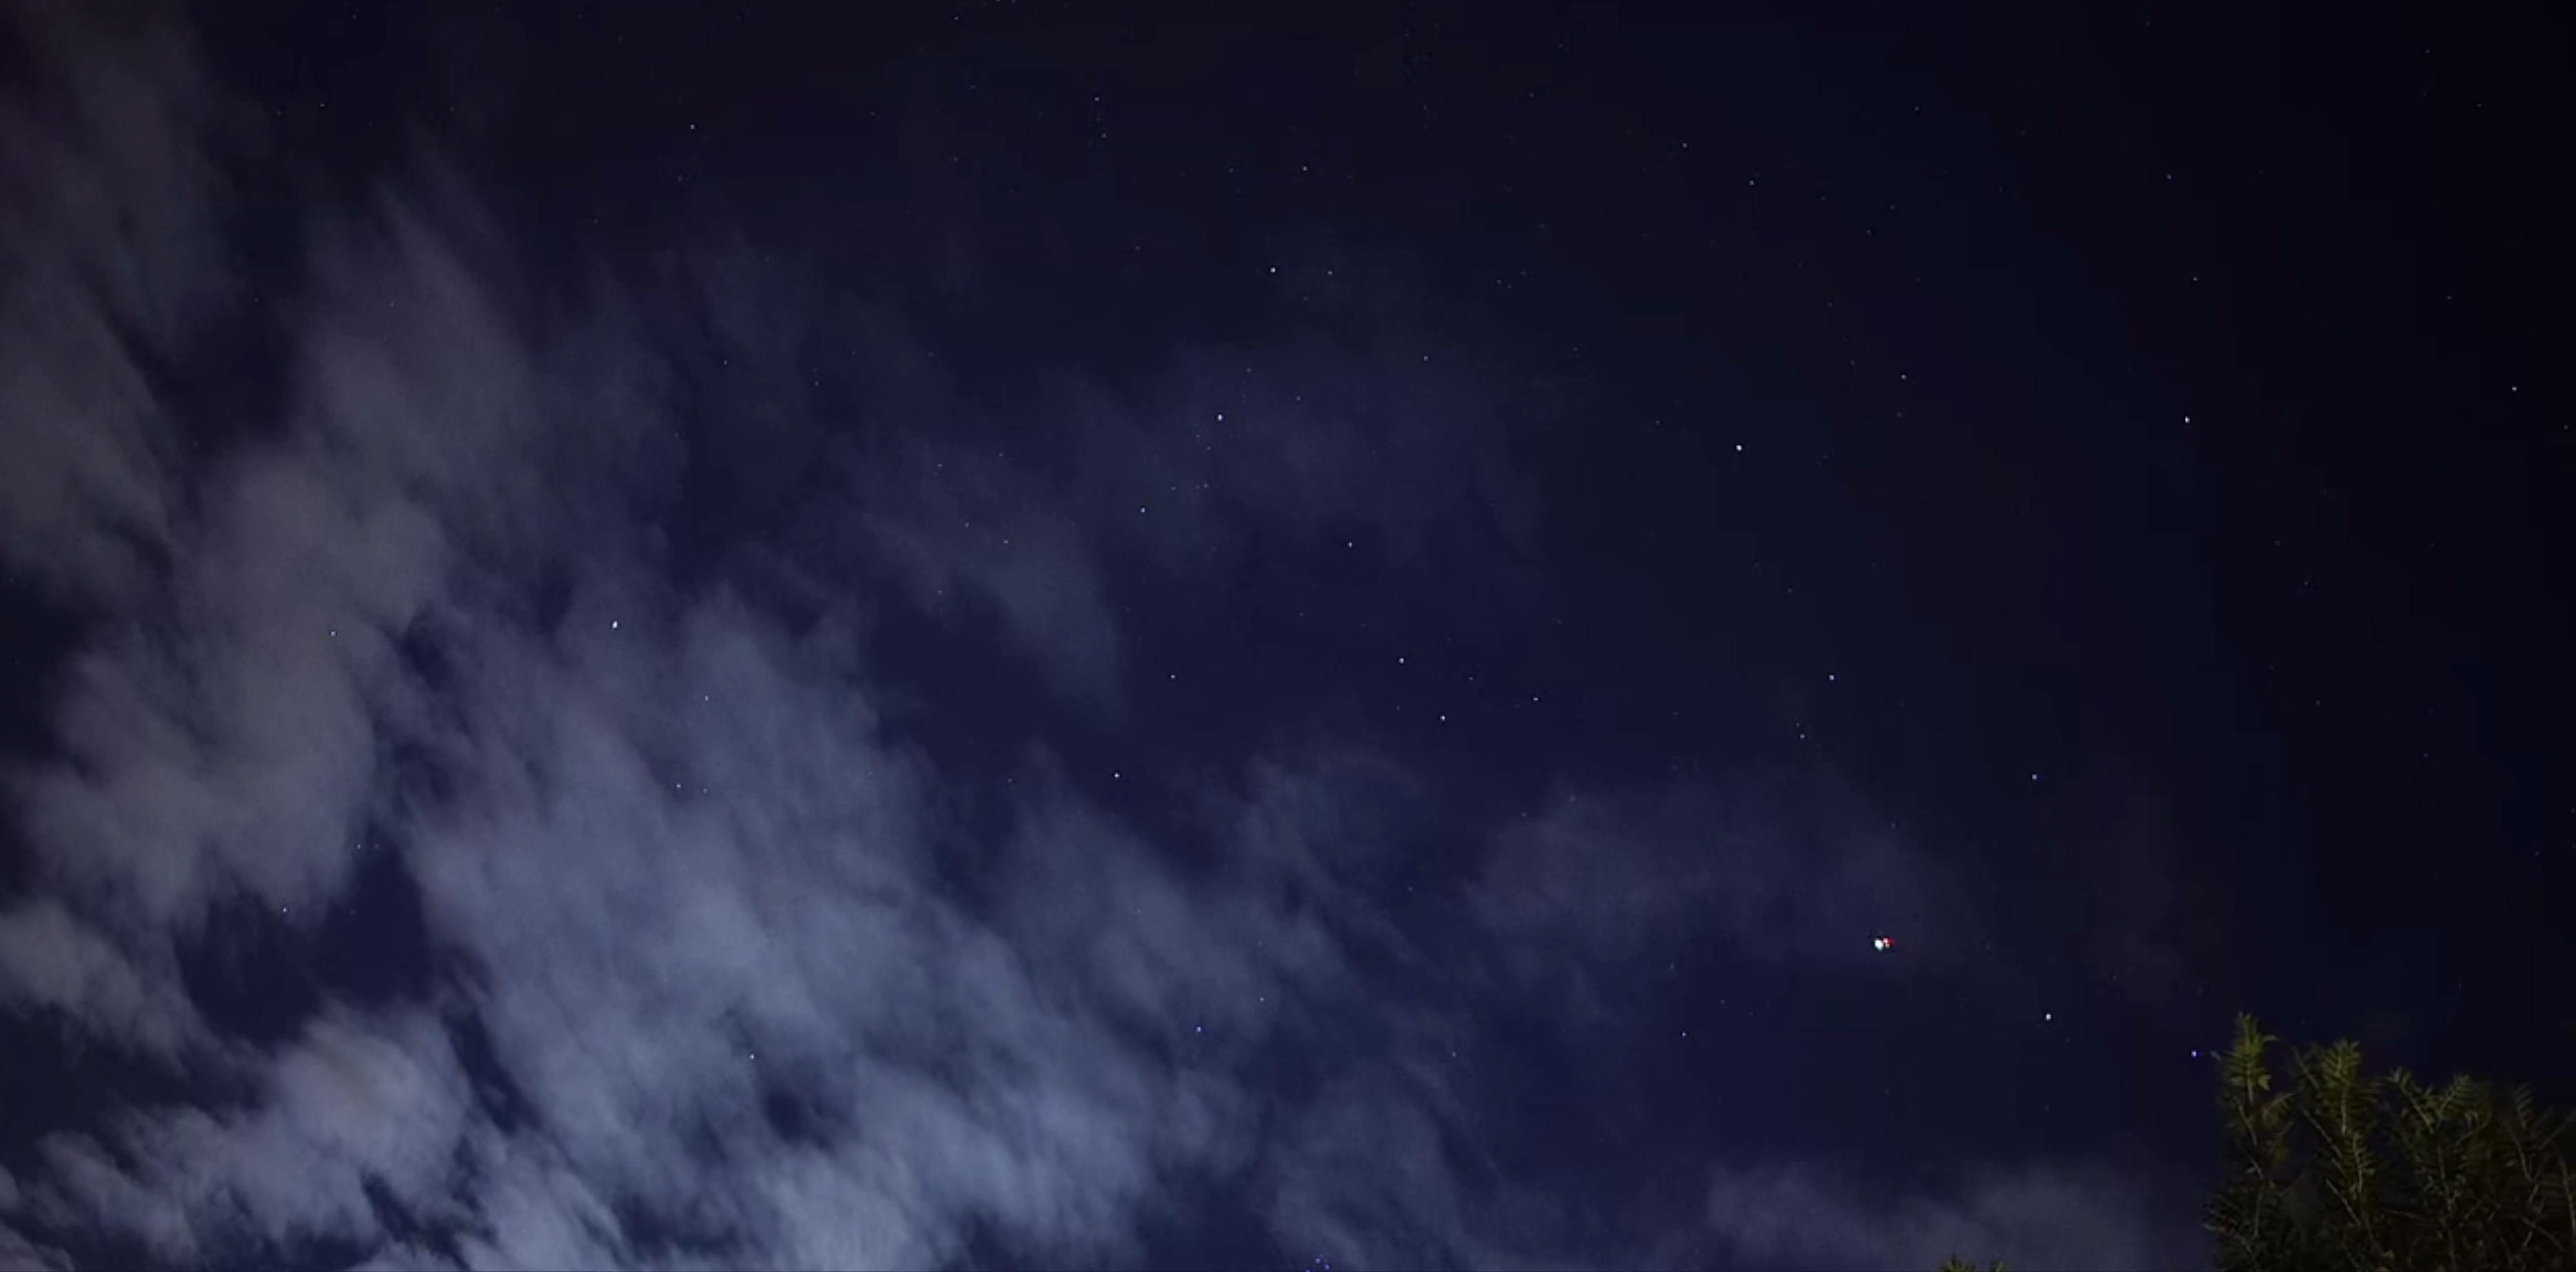Plane: (1851, 924, 1911, 961)
